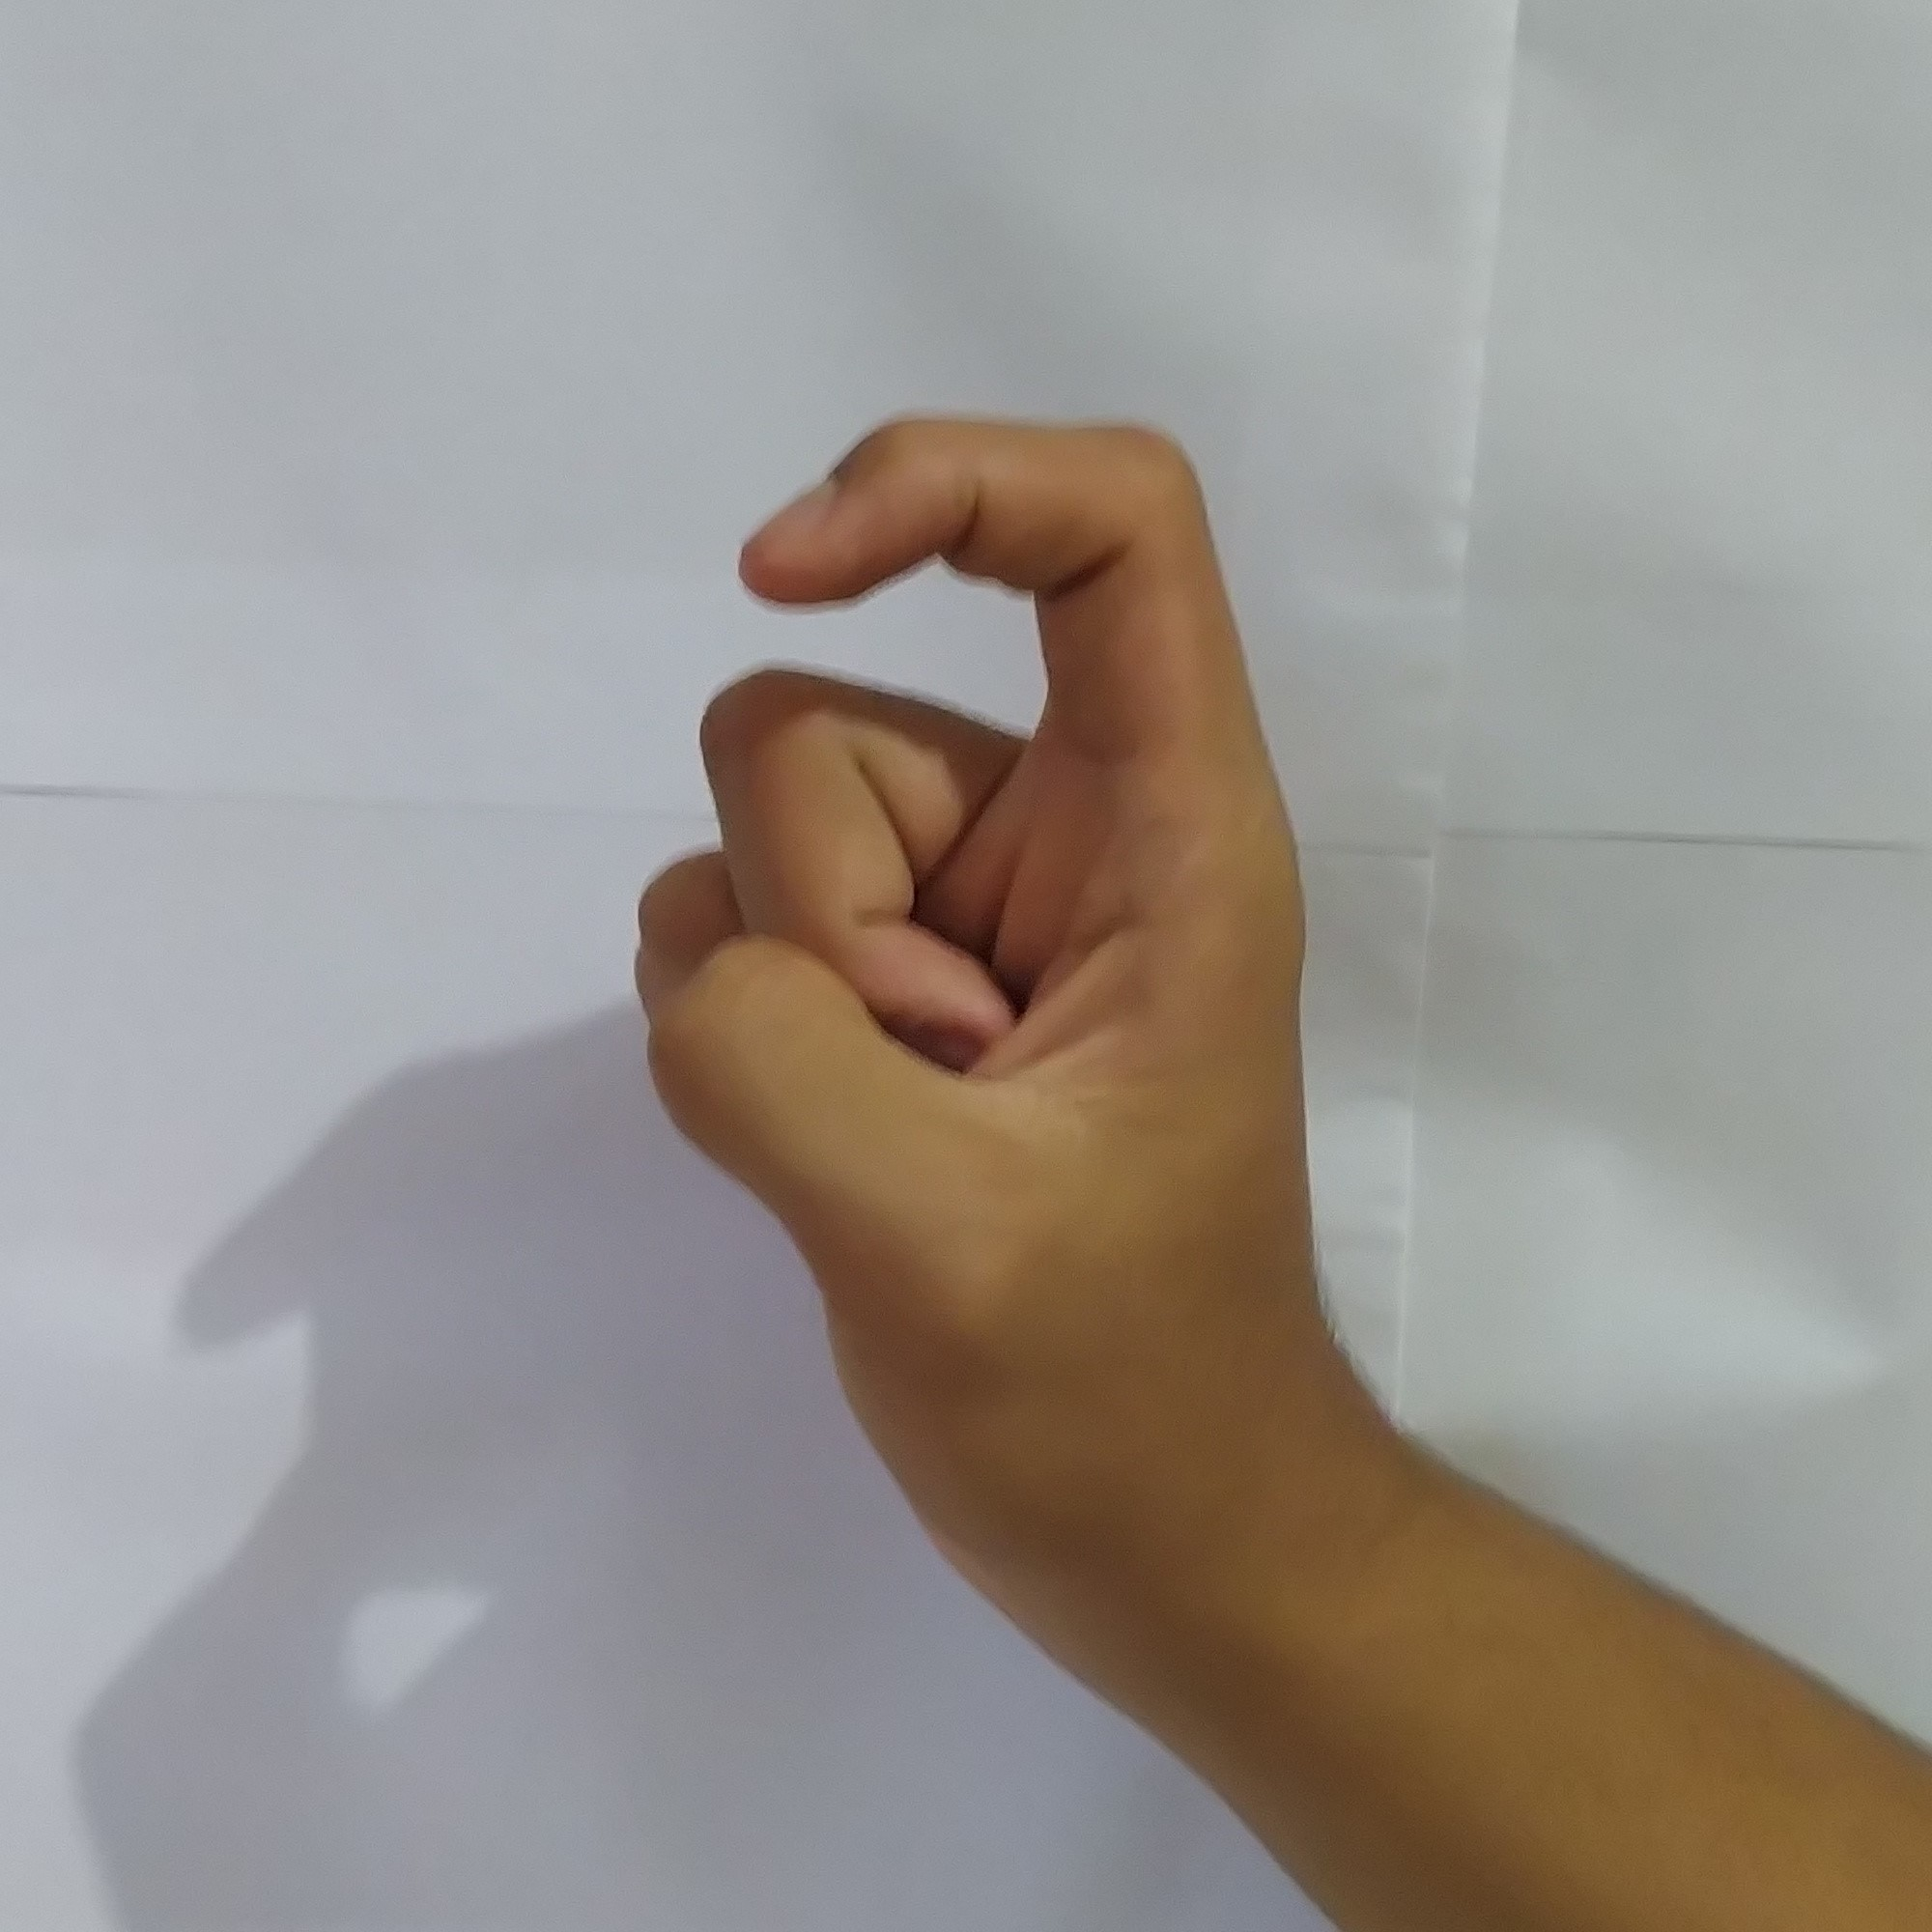X: (609, 382, 1378, 1606)
